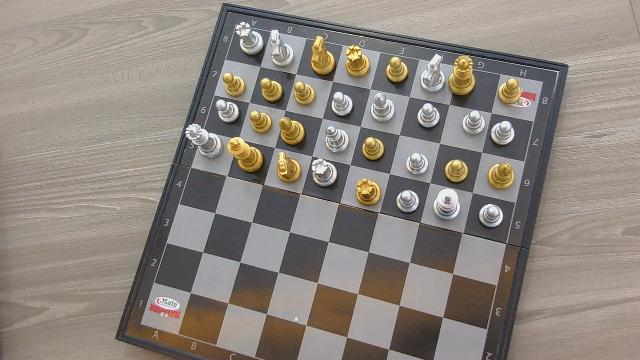black_bishop: (277, 111, 307, 144), (489, 161, 515, 190)
black_king: (227, 133, 263, 175)
black_knight: (305, 34, 338, 76), (272, 149, 302, 186)
black_pawn: (385, 55, 411, 85), (498, 78, 524, 105), (444, 158, 471, 184), (221, 72, 246, 98), (361, 136, 386, 162), (249, 110, 276, 134), (260, 78, 284, 103), (293, 81, 316, 105)
black_queen: (446, 49, 477, 98)
black_rook: (345, 40, 372, 78), (355, 173, 382, 209)
white_bishop: (319, 119, 351, 159), (369, 88, 396, 128)
white_king: (432, 186, 464, 223)
white_knight: (265, 26, 299, 69), (418, 53, 444, 92)
white_pawn: (478, 203, 504, 228), (214, 98, 240, 123), (417, 102, 441, 129), (492, 120, 516, 146), (331, 91, 354, 117), (408, 152, 431, 176), (397, 190, 420, 214), (463, 110, 485, 135)
white_queen: (180, 123, 223, 162)
white_rook: (233, 19, 260, 53), (309, 159, 338, 188)
